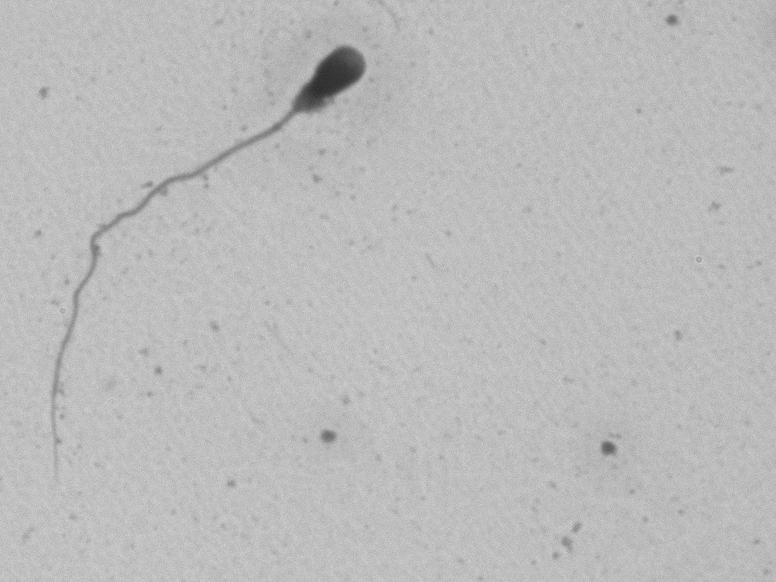Abnormal: (23, 18, 407, 477)
